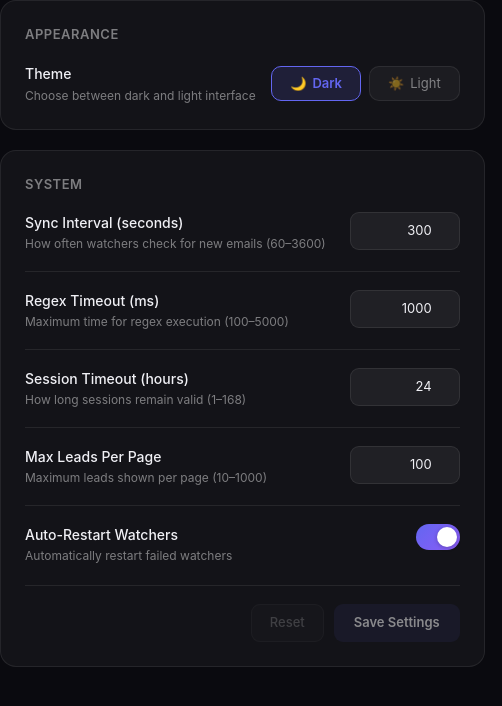
Test: SettingsPage › validates number fields out of range
Replace the text in the number field with test id "input-sync_interval_seconds" with "10" at (405, 231), box [350, 212, 460, 250]
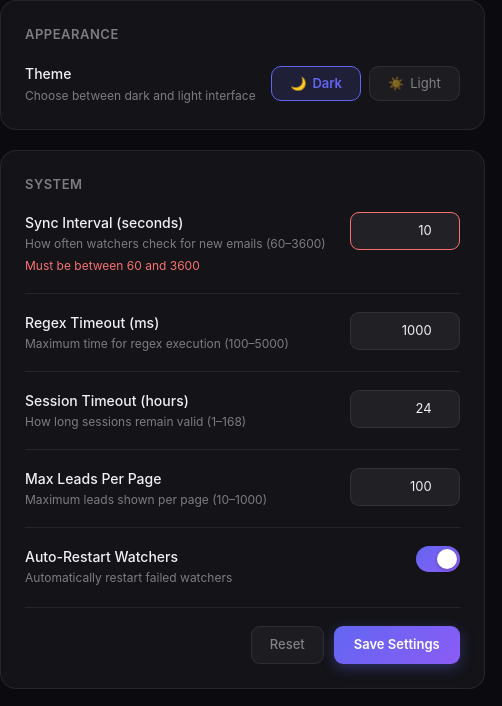
Expected: the button with test id "save-btn" is disabled, [334, 626, 460, 664]
Now the message "Must be between 60 and 3600" is shown, box [25, 258, 200, 273]
